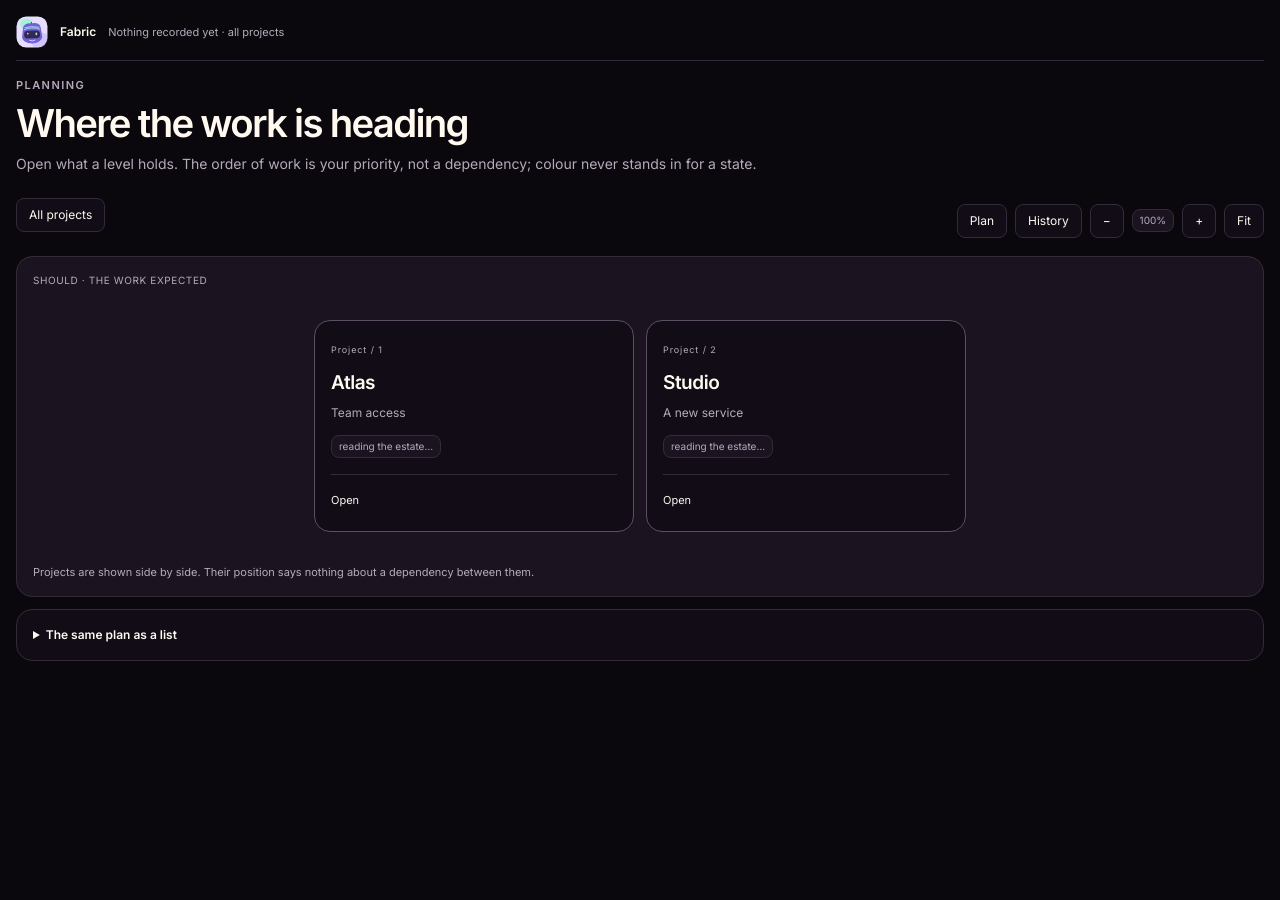
Scenario: planning, level by level (SCR-40) › opens a project into its goals, with progress counted, and work no goal holds shown as its own node
Step 1. Click the button "Open" below "Team access" → [345, 501], box [331,487,359,515]
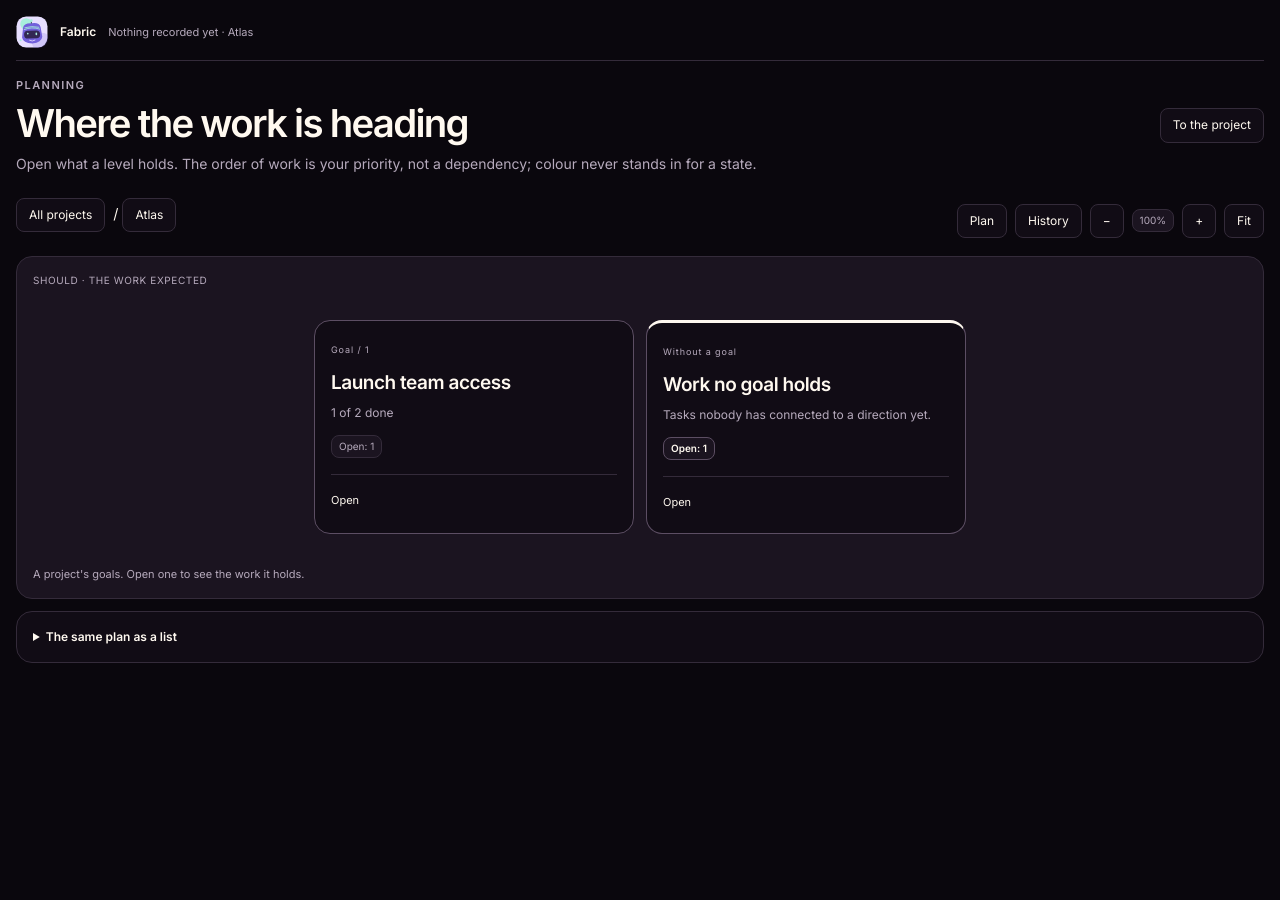
Expected: the heading "Launch team access" is shown, [331,371,511,394]
Expected: the heading "Work no goal holds" is shown, [663,373,831,396]
